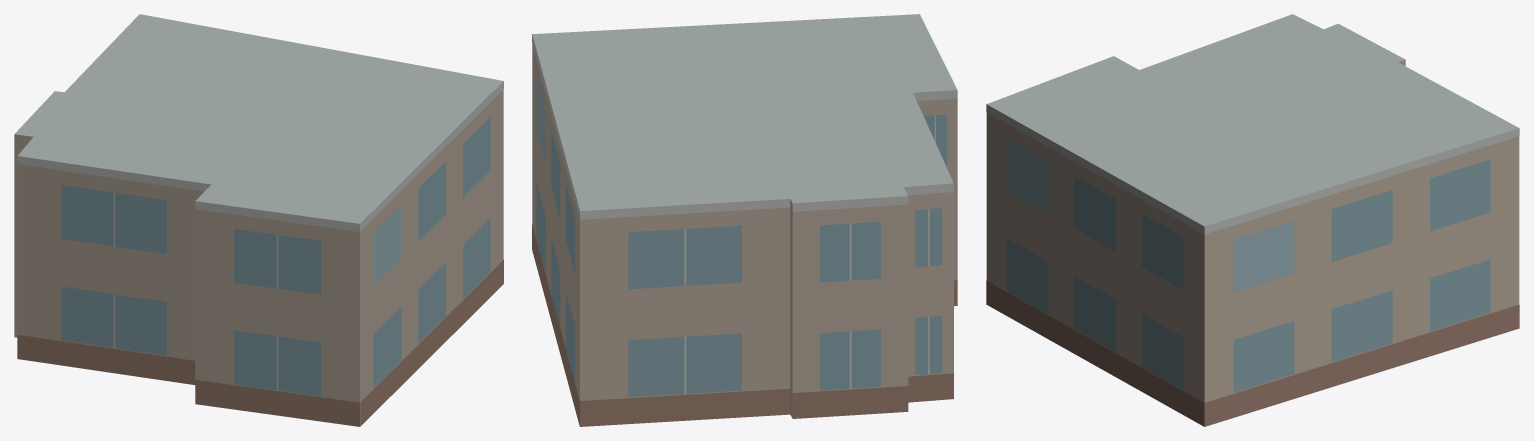
Rendered from survey-upis-32976954.glb.
3 views of the same model, side by side, from view 1: azimuth 30°, elevation 25°; view 2: azimuth 150°, elevation 25°; view 3: azimuth 270°, elevation 25° (orthographic). The views are drawn at different scales.
Parts seen in each view (by area): view 1: survey-upis-32976954.tmp; view 2: survey-upis-32976954.tmp; view 3: survey-upis-32976954.tmp.
Boxes of the visible parts, x1,y1,x2,y2 form: survey-upis-32976954.tmp: [14, 14, 503, 426]; survey-upis-32976954.tmp: [532, 14, 957, 426]; survey-upis-32976954.tmp: [986, 14, 1519, 426].
Size of the model in its own units: 13.89 by 6.1 by 14.72.
